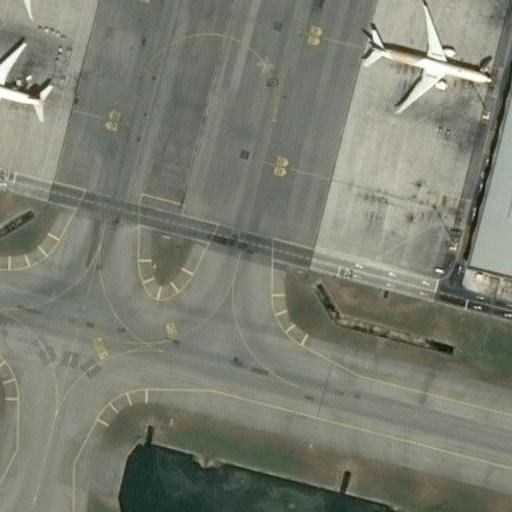Aircraft: (361, 0, 492, 114), (0, 33, 53, 142), (0, 0, 93, 18)
